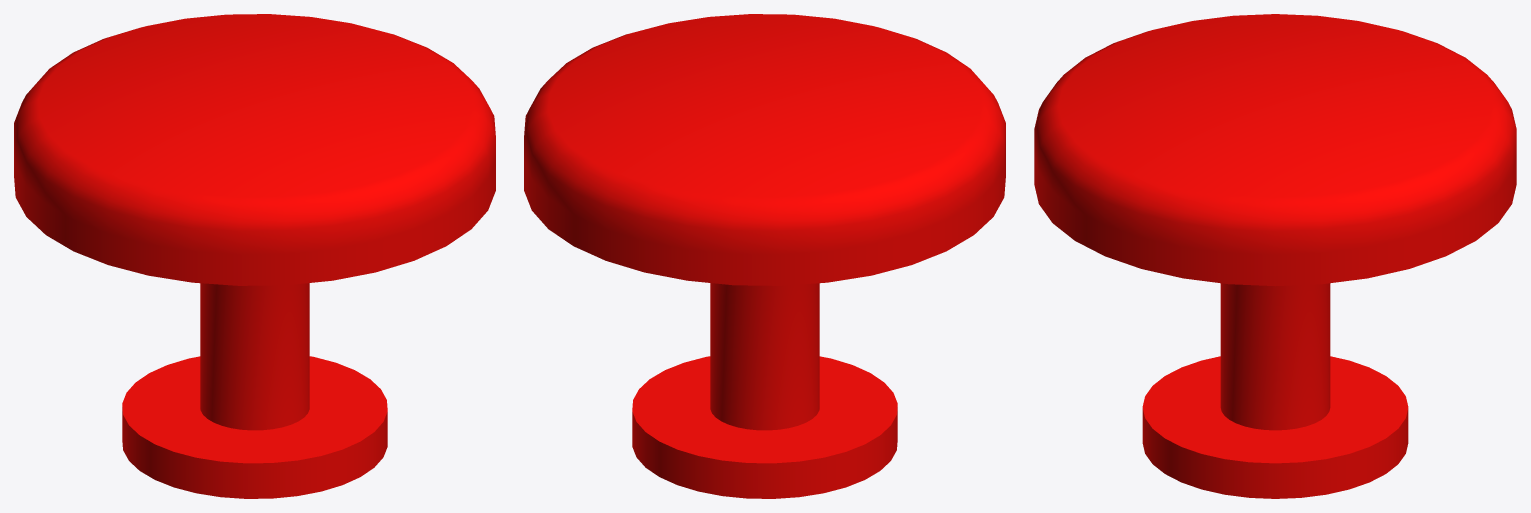
Rendered from table6.fbx.
3 views of the same model, side by side, from view 1: azimuth 30°, elevation 25°; view 2: azimuth 150°, elevation 25°; view 3: azimuth 270°, elevation 25° (orthographic).
Parts seen in each view (by area): view 1: Table6; view 2: Table6; view 3: Table6.
Boxes of the visible parts, <box> form: Table6: <box>14,14,495,498</box>; Table6: <box>524,14,1005,498</box>; Table6: <box>1034,14,1516,498</box>.
Bounding box in the file's own units: 101 × 78.08 × 101.
